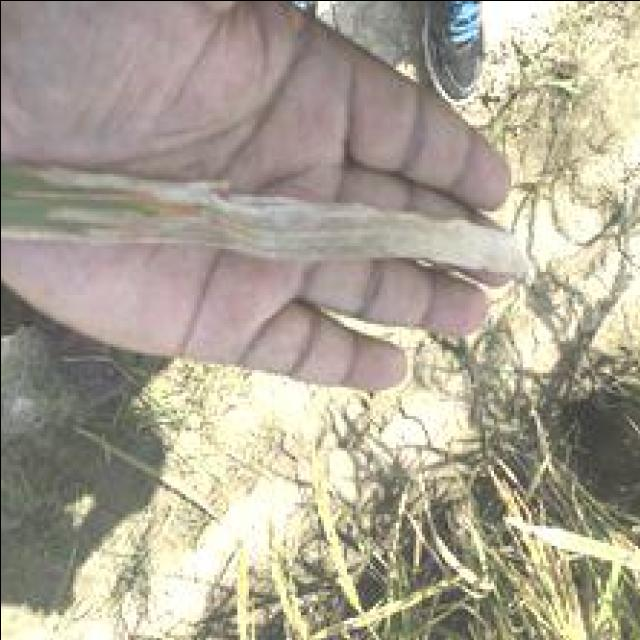Bacterial_Leaf_Blight: (141, 185, 545, 282)
